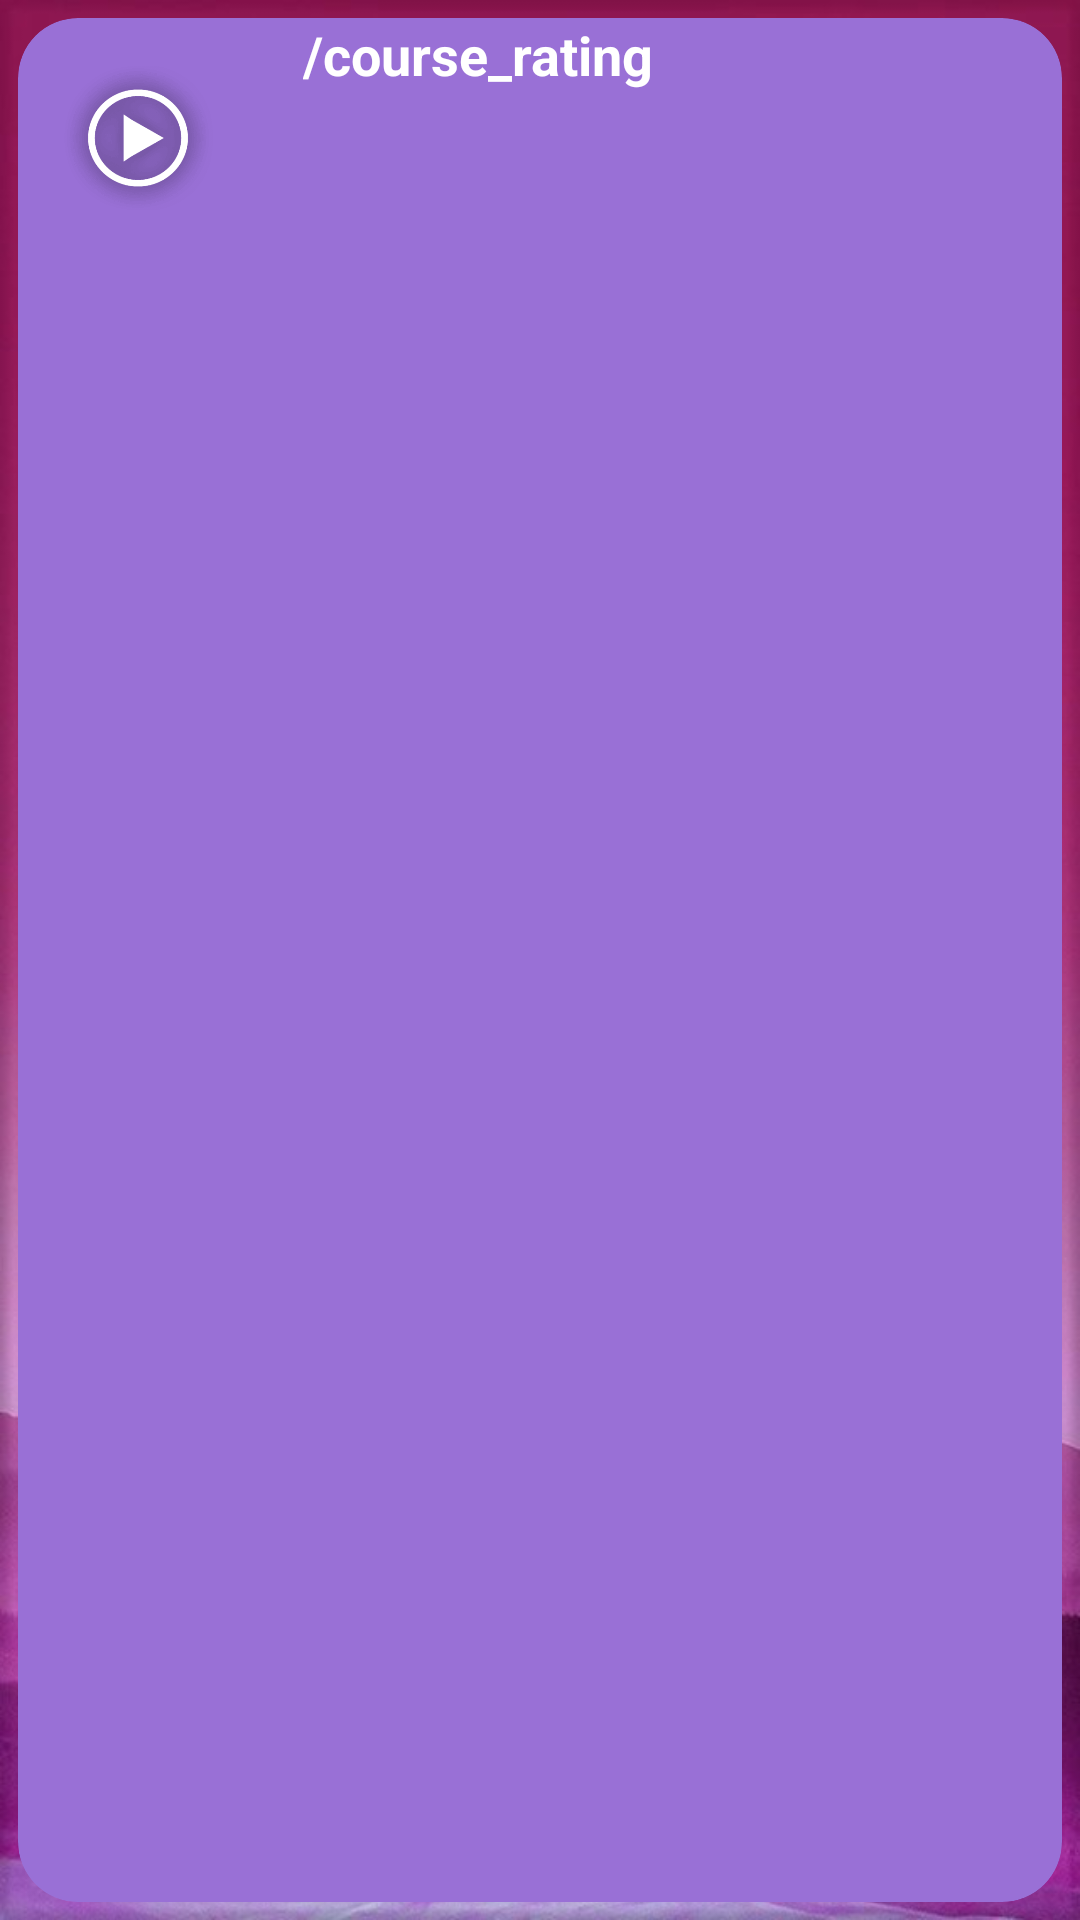

Locate icon controls on the screen. Image size 1080 × 1920, boxes as (x1, y1, x2, y2).
play: (79, 81, 197, 195)
